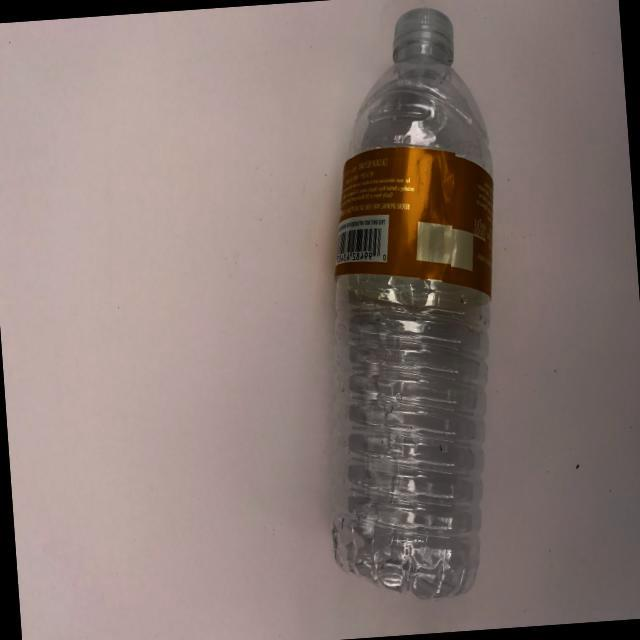plastic: (246, 0, 544, 639)
